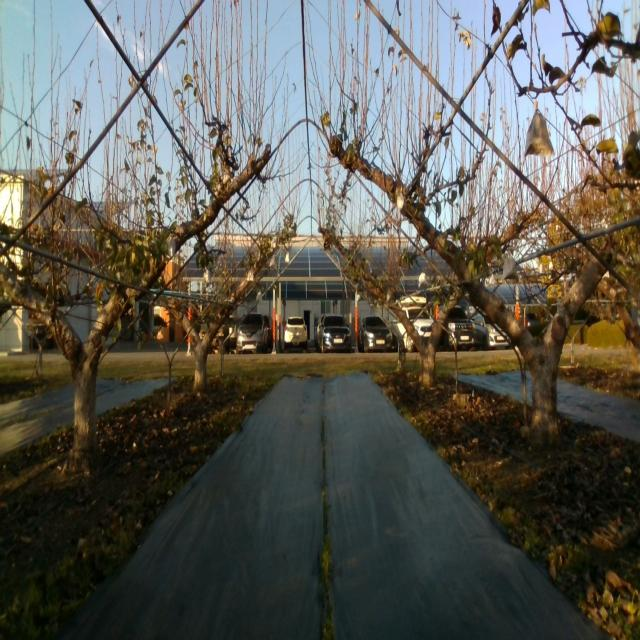pearbags: (524, 109, 554, 158), (502, 256, 518, 282)
